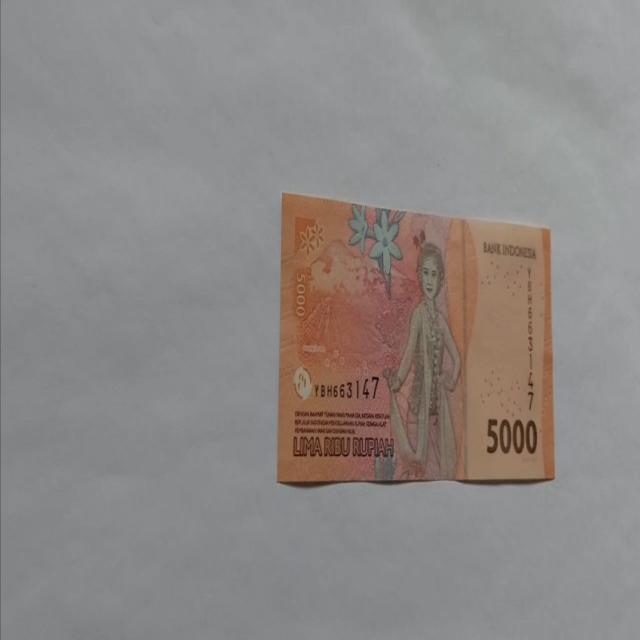lima ribu rupiah: (276, 190, 554, 486), (381, 241, 463, 481)
